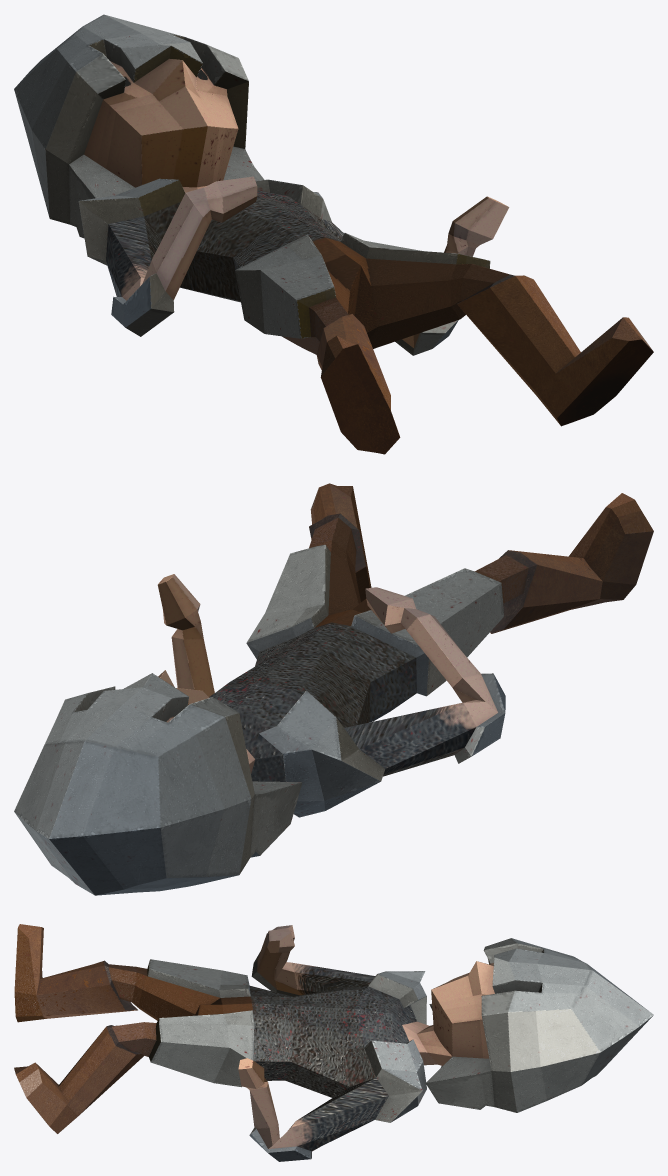
Rendered from Walk_Soldier_9.obj.
The picture shows the model from 3 angles, top to bottom: view 1: azimuth 30°, elevation 25°; view 2: azimuth 150°, elevation 25°; view 3: azimuth 270°, elevation 25°; orthographic projection. The views are drawn at different scales.
Visible parts, largest first — view 1: Soldado_LowPolySTD; view 2: Soldado_LowPolySTD; view 3: Soldado_LowPolySTD.
Boxes of the visible parts, box(x1,y1,x2,y2) form: Soldado_LowPolySTD: box(14, 14, 653, 454); Soldado_LowPolySTD: box(14, 483, 653, 895); Soldado_LowPolySTD: box(14, 924, 653, 1161).
Bounding box in the file's own units: 1.41 × 0.8517 × 2.94.
